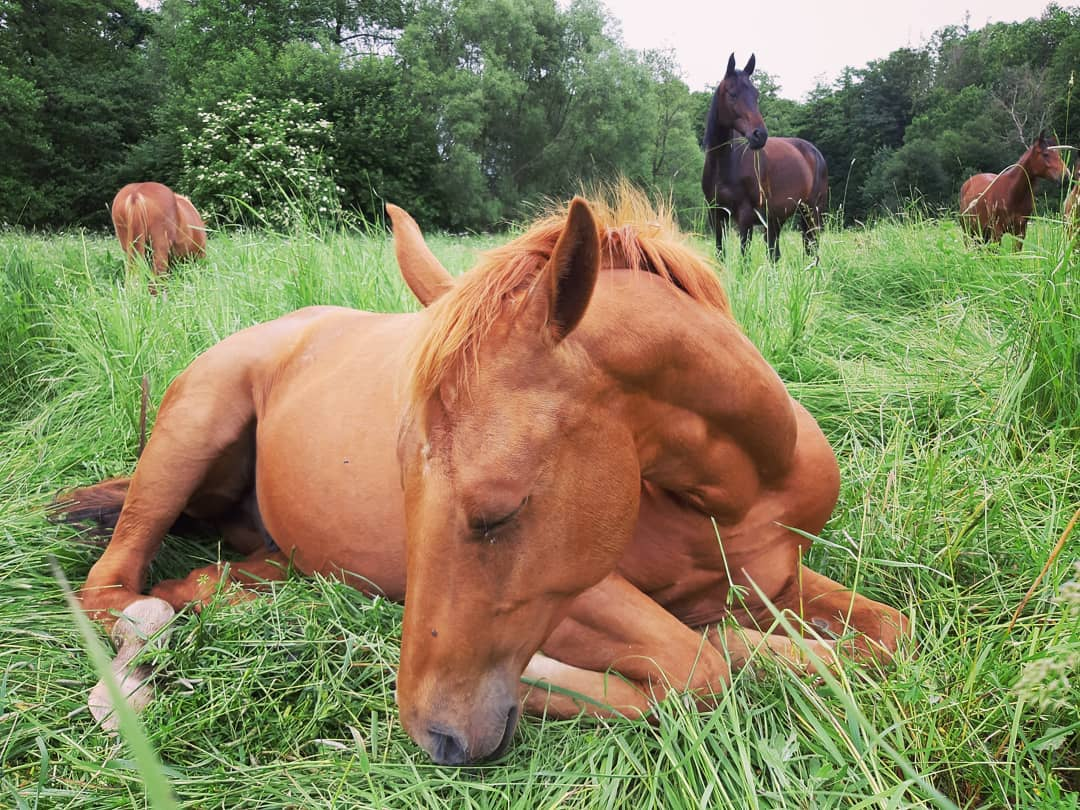Horse: (58, 190, 942, 765), (688, 44, 846, 273), (935, 130, 1077, 264), (97, 167, 228, 296)
